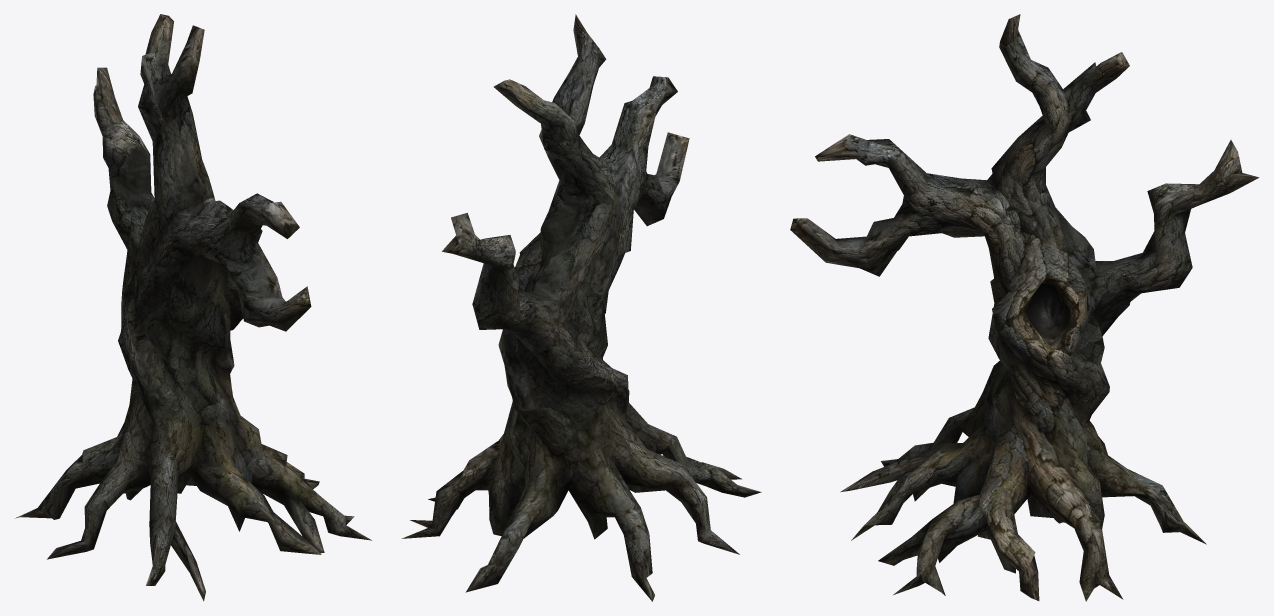
Rendered from deadtree.glb.
The picture shows the model from 3 angles, left to right: view 1: azimuth 30°, elevation 25°; view 2: azimuth 150°, elevation 25°; view 3: azimuth 270°, elevation 25°; orthographic projection. The views are drawn at different scales.
Visible parts, largest first — view 1: tripo_node_1a09d71b-c90f-4fef-9824-7279f5bf2a48; view 2: tripo_node_1a09d71b-c90f-4fef-9824-7279f5bf2a48; view 3: tripo_node_1a09d71b-c90f-4fef-9824-7279f5bf2a48.
Boxes of the visible parts, x1=… form: tripo_node_1a09d71b-c90f-4fef-9824-7279f5bf2a48: x1=15, y1=14, x2=371, y2=601; tripo_node_1a09d71b-c90f-4fef-9824-7279f5bf2a48: x1=401, y1=14, x2=761, y2=601; tripo_node_1a09d71b-c90f-4fef-9824-7279f5bf2a48: x1=790, y1=14, x2=1259, y2=601.
Size of the model in its own units: 0.6008 by 1 by 0.808.
1 material, 1 textured.
